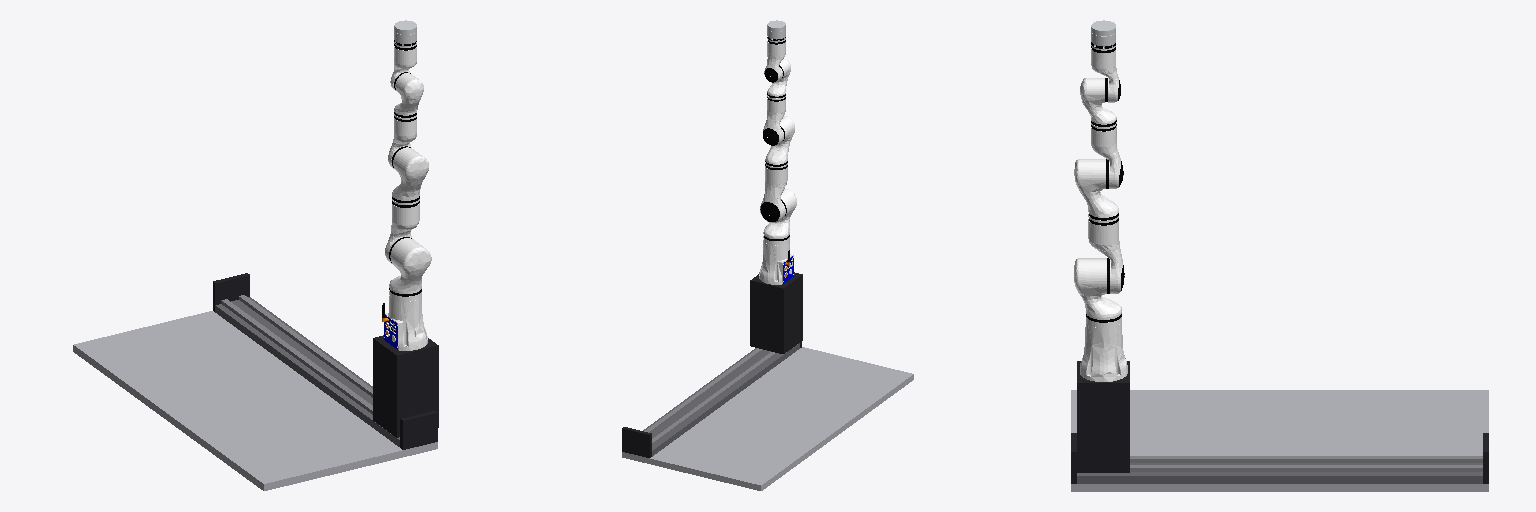
URDF robot description (RM75-6F-8dof-slider):
<?xml version="1.0" encoding="utf-8"?>
<!-- GENERATED by slider_rail_gen.py - do not edit by hand.
     Parametric slider/rail + RM75 8-DOF arm. Rail travel = Y, Z up.
     rail_y = 0 at -Y end, rail_y = travel at +Y end (0..travel_m).
     Model Z origin = rail_base (frame bottom).
     rail_link frame = rail module floor; slider_link frame = slider top center.
     Arm block (base_link..tcp) is verbatim from RM75-6F-8dof.genesis.urdf. -->
<robot name="RM75-6F-8dof-slider">
  <link name="rail_base">
    <inertial>
      <origin xyz="0 0 0" rpy="0 0 0" />
      <mass value="5.0" />
      <inertia ixx="0.05" ixy="0" ixz="0" iyy="0.05" iyz="0" izz="0.05" />
    </inertial>
  </link>
  <link name="frame_link">
    <inertial>
      <origin xyz="0.000000 0.000000 0.000000" rpy="0 0 0" />
      <mass value="8.000" />
      <inertia ixx="0.01" ixy="0" ixz="0" iyy="0.01" iyz="0" izz="0.01" />
    </inertial>
    <visual>
      <origin xyz="-0.200000 0.000000 0.010000" rpy="0 0 0" />
      <geometry>
        <box size="0.500000 0.948000 0.020000" />
      </geometry>
      <material name="frame_mat">
        <color rgba="0.750000 0.750000 0.780000 1.000000" />
      </material>
    </visual>
  </link>
  <joint name="frame_mount" type="fixed">
    <origin xyz="0 0 0" rpy="0 0 0" />
    <parent link="rail_base" />
    <child link="frame_link" />
  </joint>
  <link name="rail_link">
    <inertial>
      <origin xyz="0.000000 0.000000 0.025000" rpy="0 0 0" />
      <mass value="6.000" />
      <inertia ixx="0.01" ixy="0" ixz="0" iyy="0.01" iyz="0" izz="0.01" />
    </inertial>
    <visual>
      <origin xyz="0.000000 0.000000 0.010000" rpy="0 0 0" />
      <geometry>
        <box size="0.100000 0.920000 0.020000" />
      </geometry>
      <material name="rail_deck_mat">
        <color rgba="0.460000 0.460000 0.480000 1.000000" />
      </material>
    </visual>
    <visual>
      <origin xyz="-0.025000 0.000000 0.025000" rpy="0 0 0" />
      <geometry>
        <box size="0.016000 0.920000 0.010000" />
      </geometry>
      <material name="rail_metal_mat">
        <color rgba="0.580000 0.580000 0.600000 1.000000" />
      </material>
    </visual>
    <visual>
      <origin xyz="0.025000 0.000000 0.025000" rpy="0 0 0" />
      <geometry>
        <box size="0.016000 0.920000 0.010000" />
      </geometry>
      <material name="rail_metal_mat">
        <color rgba="0.580000 0.580000 0.600000 1.000000" />
      </material>
    </visual>
    <visual>
      <origin xyz="0.000000 -0.467000 0.040000" rpy="0 0 0" />
      <geometry>
        <box size="0.100000 0.014000 0.080000" />
      </geometry>
      <material name="rail_dark_mat">
        <color rgba="0.180000 0.180000 0.200000 1.000000" />
      </material>
    </visual>
    <visual>
      <origin xyz="0.000000 0.467000 0.040000" rpy="0 0 0" />
      <geometry>
        <box size="0.100000 0.014000 0.080000" />
      </geometry>
      <material name="rail_dark_mat">
        <color rgba="0.180000 0.180000 0.200000 1.000000" />
      </material>
    </visual>
  </link>
  <joint name="rail_mount" type="fixed">
    <origin xyz="0 0 0.020000" rpy="0 0 0" />
    <parent link="rail_base" />
    <child link="rail_link" />
  </joint>
  <link name="slider_link">
    <inertial>
      <origin xyz="0.000000 0.000000 -0.113000" rpy="0 0 0" />
      <mass value="2.000" />
      <inertia ixx="0.01" ixy="0" ixz="0" iyy="0.01" iyz="0" izz="0.01" />
    </inertial>
    <visual>
      <origin xyz="0.000000 0.000000 -0.113000" rpy="0 0 0" />
      <geometry>
        <box size="0.120000 0.120000 0.226000" />
      </geometry>
      <material name="slider_mat">
        <color rgba="0.180000 0.180000 0.200000 1.000000" />
      </material>
    </visual>
  </link>
  <joint name="rail_y" type="prismatic">
    <origin xyz="0 -0.400000 0.256000" rpy="0 0 0" />
    <parent link="rail_link" />
    <child link="slider_link" />
    <axis xyz="0 1 0" />
    <limit lower="0.000000" upper="0.800000" velocity="0.20" effort="500" />
  </joint>
  <joint name="arm_mount" type="fixed">
    <origin xyz="0.000000 0.000000 0.000000" rpy="0 0 0" />
    <parent link="slider_link" />
    <child link="base_link" />
  </joint>
  <link name="base_link">
    <inertial>
      <origin xyz="0.00049987 5.2709E-05 0.060019" rpy="0 0 0" />
      <mass value="1.862" />
      <inertia ixx="0.0017232" ixy="-3.1058E-06" ixz="-3.7924E-05"
               iyy="0.0017051" iyz="1.3691E-06" izz="0.00090158" />
    </inertial>
    <visual>
      <origin xyz="0 0 0" rpy="0 0 0" />
      <geometry>
        <mesh filename="meshes/base_link.dae" />
      </geometry>
    </visual>
  </link>
  <link name="link_1">
    <inertial>
      <origin xyz="0.000241 -0.013273 -0.00995" rpy="0 0 0" />
      <mass value="1.574" />
      <inertia ixx="0.002487573" ixy="0.000009663" ixz="-0.000007909"
               iyy="0.002321038" iyz="0.000179393" izz="0.001450554" />
    </inertial>
    <visual>
      <origin xyz="0 0 0" rpy="0 0 0" />
      <geometry>
        <mesh filename="meshes/link_1.dae" />
      </geometry>
    </visual>
  </link>
  <joint name="joint_1" type="revolute">
    <origin xyz="0 0 0.2405" rpy="0 0 0" />
    <parent link="base_link" />
    <child link="link_1" />
    <axis xyz="0 0 1" />
    <limit lower="-3.106" upper="3.106" effort="60" velocity="3.14" />
  </joint>
  <link name="link_2">
    <inertial>
      <origin xyz="-0.000357 -0.106789 0.005329" rpy="0 0 0" />
      <mass value="1.217" />
      <inertia ixx="0.003494121" ixy="0.000002921" ixz="-0.000005613"
               iyy="0.000892721" iyz="-0.000583884" izz="0.003444080" />
    </inertial>
    <visual>
      <origin xyz="0 0 0" rpy="0 0 0" />
      <geometry>
        <mesh filename="meshes/link_2.dae" />
      </geometry>
    </visual>
  </link>
  <joint name="joint_2" type="revolute">
    <origin xyz="0 0 0" rpy="-1.5708 0 0" />
    <parent link="link_1" />
    <child link="link_2" />
    <axis xyz="0 0 1" />
    <limit lower="-2.2689" upper="2.2689" effort="60" velocity="3.14" />
  </joint>
  <link name="link_3">
    <inertial>
      <origin xyz="0.000003 -0.01398 -0.011324" rpy="0 0 0" />
      <mass value="1.11" />
      <inertia ixx="0.001836663" ixy="0.000002259" ixz="-0.000004216"
               iyy="0.001498875" iyz="0.000037167" izz="0.001062545" />
    </inertial>
    <visual>
      <origin xyz="0 0 0" rpy="0 0 0" />
      <geometry>
        <mesh filename="meshes/link_3.dae" />
      </geometry>
    </visual>
  </link>
  <joint name="joint_3" type="revolute">
    <origin xyz="0 -0.256 0" rpy="1.5708 0 0" />
    <parent link="link_2" />
    <child link="link_3" />
    <axis xyz="0 0 1" />
    <limit lower="-3.106" upper="3.106" effort="30" velocity="3.14" />
  </joint>
  <link name="link_4">
    <inertial>
      <origin xyz="-0.000005 -0.084658 0.004747" rpy="0 0 0" />
      <mass value="0.685" />
      <inertia ixx="0.001282444" ixy="-0.000000551" ixz="-0.000000630"
               iyy="0.000373013" iyz="-0.000232084" izz="0.001256177" />
    </inertial>
    <visual>
      <origin xyz="0 0 0" rpy="0 0 0" />
      <geometry>
        <mesh filename="meshes/link_4.dae" />
      </geometry>
    </visual>
  </link>
  <joint name="joint_4" type="revolute">
    <origin xyz="0 0 0" rpy="-1.5708 0 0" />
    <parent link="link_3" />
    <child link="link_4" />
    <axis xyz="0 0 1" />
    <limit lower="-2.356" upper="2.356" effort="30" velocity="3.14" />
  </joint>
  <link name="link_5">
    <inertial>
      <origin xyz="0.000078 -0.012937 -0.008781" rpy="0 0 0" />
      <mass value="0.619" />
      <inertia ixx="0.000627336" ixy="0.000001636" ixz="-0.000001345"
               iyy="0.000542455" iyz="0.000034970" izz="0.000370291" />
    </inertial>
    <visual>
      <origin xyz="0 0 0" rpy="0 0 0" />
      <geometry>
        <mesh filename="meshes/link_5.dae" />
      </geometry>
    </visual>
  </link>
  <joint name="joint_5" type="revolute">
    <origin xyz="0 -0.21 0" rpy="1.5708 0 0" />
    <parent link="link_4" />
    <child link="link_5" />
    <axis xyz="0 0 1" />
    <limit lower="-3.106" upper="3.106" effort="10" velocity="3.14" />
  </joint>
  <link name="link_6">
    <inertial>
      <origin xyz="-0.000014 -0.078524 0.002819" rpy="0 0 0" />
      <mass value="0.602" />
      <inertia ixx="0.000780774" ixy="-0.000000121" ixz="-0.000000469"
               iyy="0.000289973" iyz="-0.000120513" izz="0.000763955" />
    </inertial>
    <visual>
      <origin xyz="0 0 0" rpy="0 0 0" />
      <geometry>
        <mesh filename="meshes/link_6.dae" />
      </geometry>
    </visual>
  </link>
  <joint name="joint_6" type="revolute">
    <origin xyz="0 0 0" rpy="-1.5708 0 0" />
    <parent link="link_5" />
    <child link="link_6" />
    <axis xyz="0 0 1" />
    <limit lower="-2.234" upper="2.234" effort="10" velocity="3.14" />
  </joint>
  <link name="link_7">
    <inertial>
      <origin xyz="0.001094 -0.000077 -0.010119" rpy="0 0 0" />
      <mass value="0.144" />
      <inertia ixx="0.000044123" ixy="-0.000000064" ixz="0.0000003"
               iyy="0.000035078" iyz="-0.000000029" izz="0.000065445" />
    </inertial>
    <visual>
      <origin xyz="0 0 0" rpy="0 0 0" />
      <geometry>
        <mesh filename="meshes/link_7.dae" />
      </geometry>
    </visual>
  </link>
  <joint name="joint_7" type="revolute">
    <origin xyz="0 -0.1612 0" rpy="1.5708 0 0" />
    <parent link="link_6" />
    <child link="link_7" />
    <axis xyz="0 0 1" />
    <limit lower="-6.28" upper="6.28" effort="10" velocity="3.14" />
  </joint>
  <link name="link_8">
    <inertial>
      <origin xyz="0.003680 -0.012695 0.076874" rpy="0 0 0" />
      <mass value="0.4829" />
      <inertia ixx="0.0004135" ixy="-0.000003908" ixz="0.00003379"
               iyy="0.0002717" iyz="0.00001544" izz="0.0003621" />
    </inertial>
    <visual>
      <origin xyz="0 0 0" rpy="0 0 0" />
      <geometry>
        <mesh filename="meshes/probe45.dae" />
      </geometry>
    </visual>
  </link>
  <joint name="joint_8" type="fixed">
    <origin xyz="0 0 0" rpy="0 0 3.141592654" />
    <parent link="link_7" />
    <child link="link_8" />
  </joint>
  <link name="tcp" />
  <joint name="link_7_to_tcp" type="fixed">
    <origin xyz="0 -0.01523 0.12135" rpy="0.017732743 0.870791073 -1.547861183" />
    <parent link="link_7" />
    <child link="tcp" />
  </joint>
  <!-- OpenCV / Genesis / UE-calib optical: +Z out of lens, +X right, +Y down.
       Stage 5 T_link7_cam from orbbec_handeye.yaml (fallback if missing). -->
  <link name="wrist_camera">
    <collision>
      <origin xyz="0.02 0 0" rpy="0 0 0" />
      <geometry>
        <box size="0.12 0.03 0.03" />
      </geometry>
    </collision>
  </link>
  <joint name="link_7_to_wrist_camera" type="fixed">
    <origin xyz="0.064853526 0.025247380 0.065670289" rpy="-0.19092023 -0.86158535 1.58594946" />
    <parent link="link_7" />
    <child link="wrist_camera" />
  </joint>
</robot>

--- Render facts (derived) ---
3 views of the same robot in one strip: view 1: azimuth 30°, elevation 25°; view 2: azimuth 150°, elevation 25°; view 3: azimuth 270°, elevation 25° (orthographic).
Model RM75-6F-8dof-slider with 15 links and 14 joints (7 revolute, 1 prismatic, 6 fixed), rooted at rail_base, posed every joint at zero.
Links seen in each view (by area): view 1: frame_link, rail_link, slider_link, base_link, link_1, link_3, link_5, link_2, link_4, link_6, link_7; view 2: frame_link, rail_link, slider_link, base_link, link_2, link_4, link_1, link_3, link_6; view 3: frame_link, rail_link, slider_link, base_link, link_1, link_3, link_2, link_5, link_4, link_6, link_7.
Link boxes in pixels (bbox=[...]): frame_link: bbox=[73, 311, 437, 490]; rail_link: bbox=[213, 273, 437, 449]; slider_link: bbox=[373, 335, 438, 437]; base_link: bbox=[382, 292, 427, 350]; link_1: bbox=[388, 236, 431, 297]; link_3: bbox=[391, 146, 428, 203]; link_5: bbox=[394, 72, 423, 118]; link_2: bbox=[385, 200, 419, 263]; link_4: bbox=[388, 115, 416, 168]; link_6: bbox=[390, 43, 416, 89]; link_7: bbox=[394, 20, 416, 46]; frame_link: bbox=[622, 347, 913, 490]; rail_link: bbox=[622, 341, 801, 457]; slider_link: bbox=[750, 272, 802, 353]; base_link: bbox=[759, 237, 793, 284]; link_2: bbox=[760, 164, 787, 222]; link_4: bbox=[763, 96, 785, 145]; link_1: bbox=[763, 189, 796, 242]; link_3: bbox=[765, 116, 794, 167]; link_6: bbox=[764, 38, 785, 82]; frame_link: bbox=[1071, 390, 1488, 491]; rail_link: bbox=[1071, 433, 1488, 483]; slider_link: bbox=[1077, 361, 1129, 472]; base_link: bbox=[1080, 318, 1127, 381]; link_1: bbox=[1074, 258, 1121, 323]; link_3: bbox=[1074, 159, 1118, 221]; link_2: bbox=[1088, 215, 1124, 293]; link_5: bbox=[1080, 78, 1116, 127]; link_4: bbox=[1091, 123, 1123, 188]; link_6: bbox=[1091, 45, 1120, 102]; link_7: bbox=[1091, 20, 1115, 49].
Bounding box of the posed robot: 0.51 × 0.948 × 1.14 m (x, y, z).
Meshes: 9 distinct files referenced, 8 mesh visuals loaded (8 Collada DAE); not drawn: 1 (reference not matched to a file when rendering).
